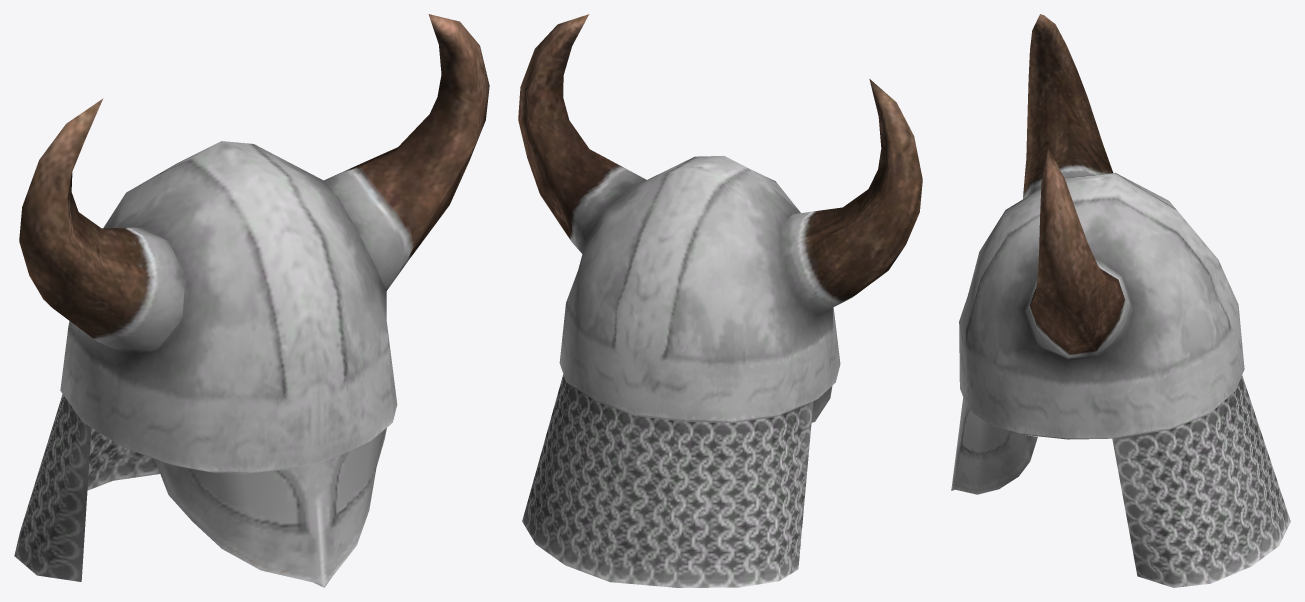
File: helmet-championinfantry.glb
The picture shows the model from 3 angles, left to right: view 1: azimuth 30°, elevation 25°; view 2: azimuth 150°, elevation 25°; view 3: azimuth 270°, elevation 25°; orthographic projection. The views are drawn at different scales.
Bounding box in the file's own units: 0.4714 × 0.508 × 0.351.
Materials: 1 (1 with a texture image).
